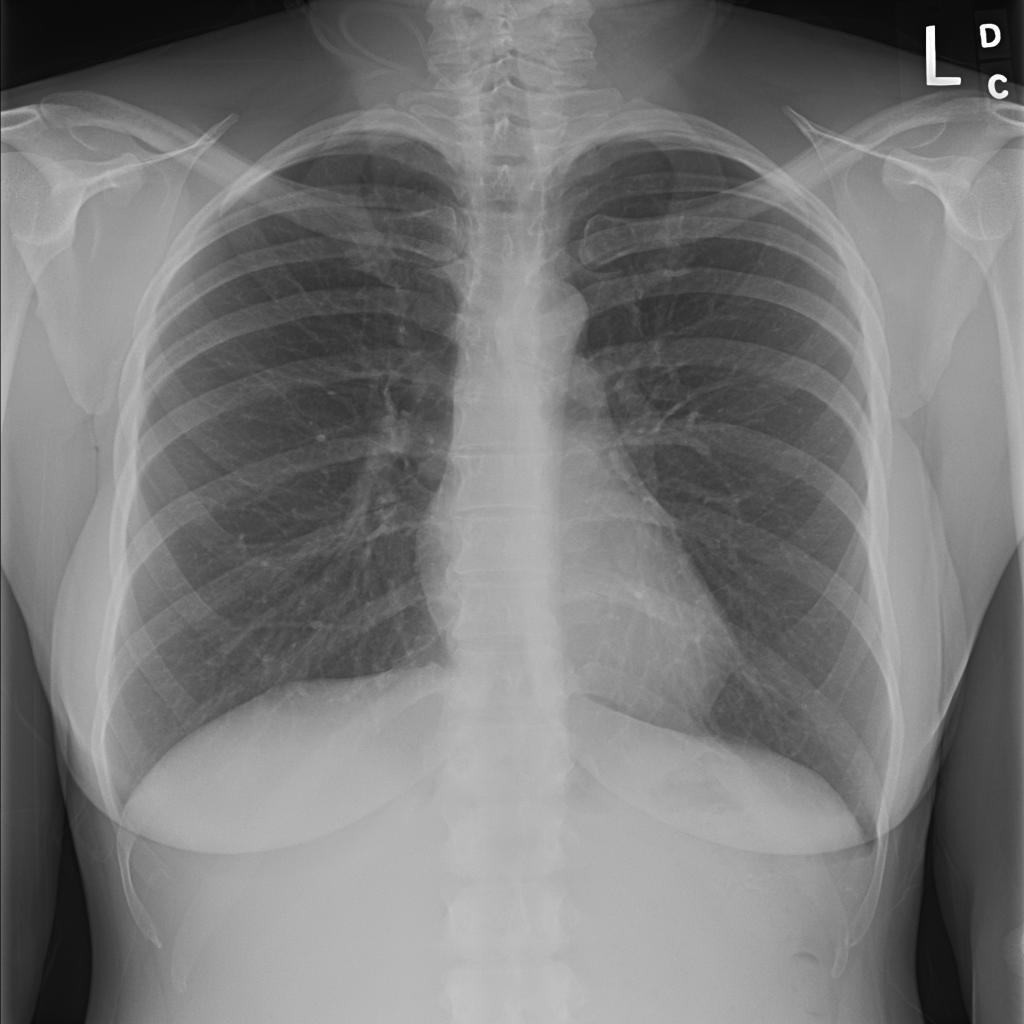Nodule: (151, 178, 194, 203), (180, 214, 204, 231)
